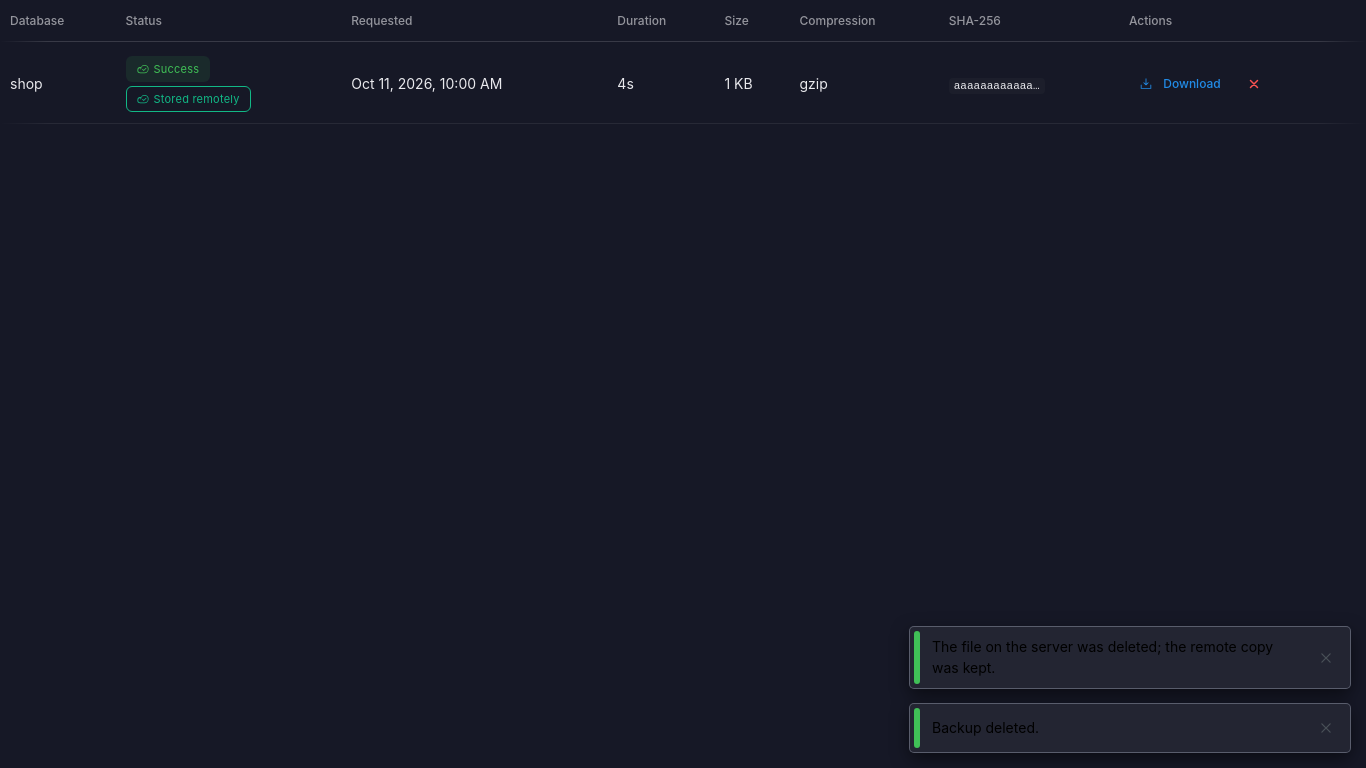
deleting a backup with a remote copy › disables the option with an explanation while the copy is protected
The width and height of the screenshot is (1366, 768).
Click the button named "Delete": (1254, 84) [1240,70,1268,98]
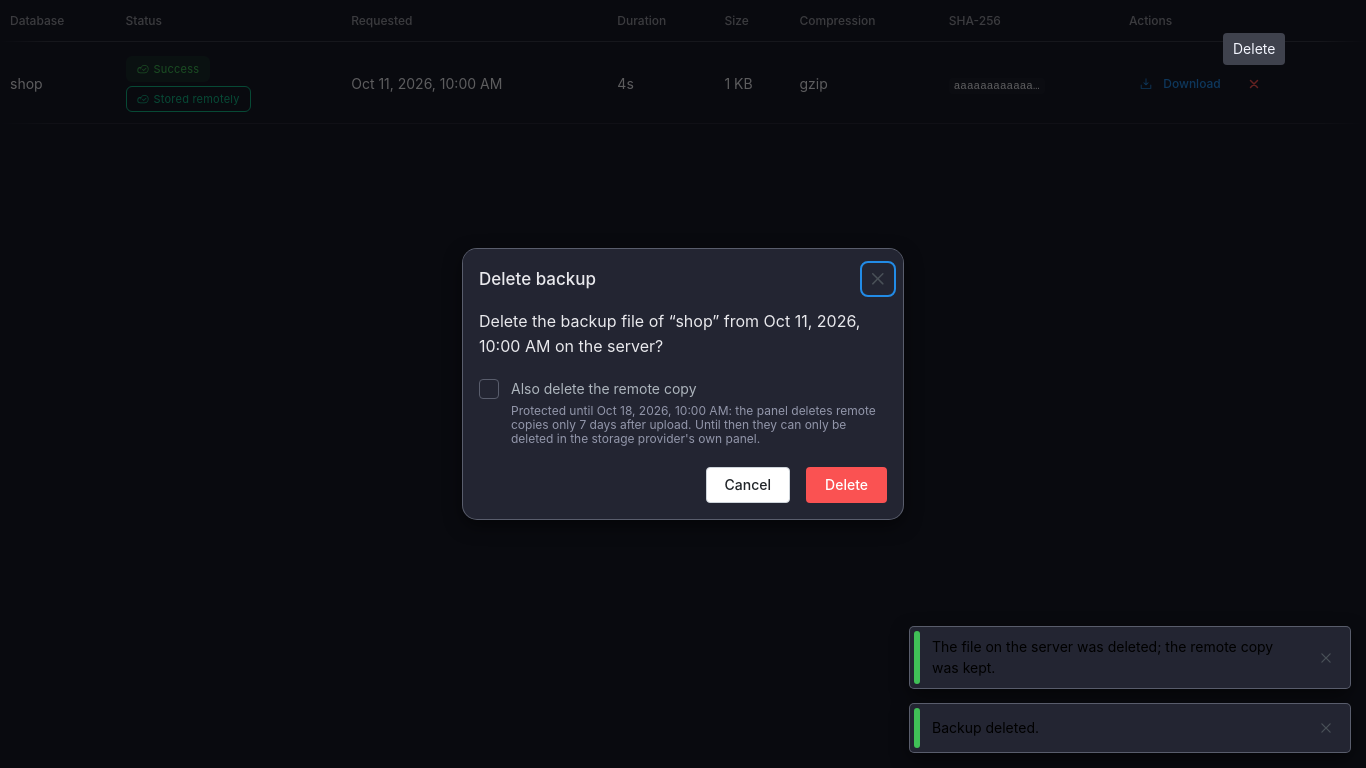
Result: the checkbox with test id "delete-remote" is disabled at [479,379,499,399]
Result: the text "only 7 days after upload" is shown at [511,403,876,446]
